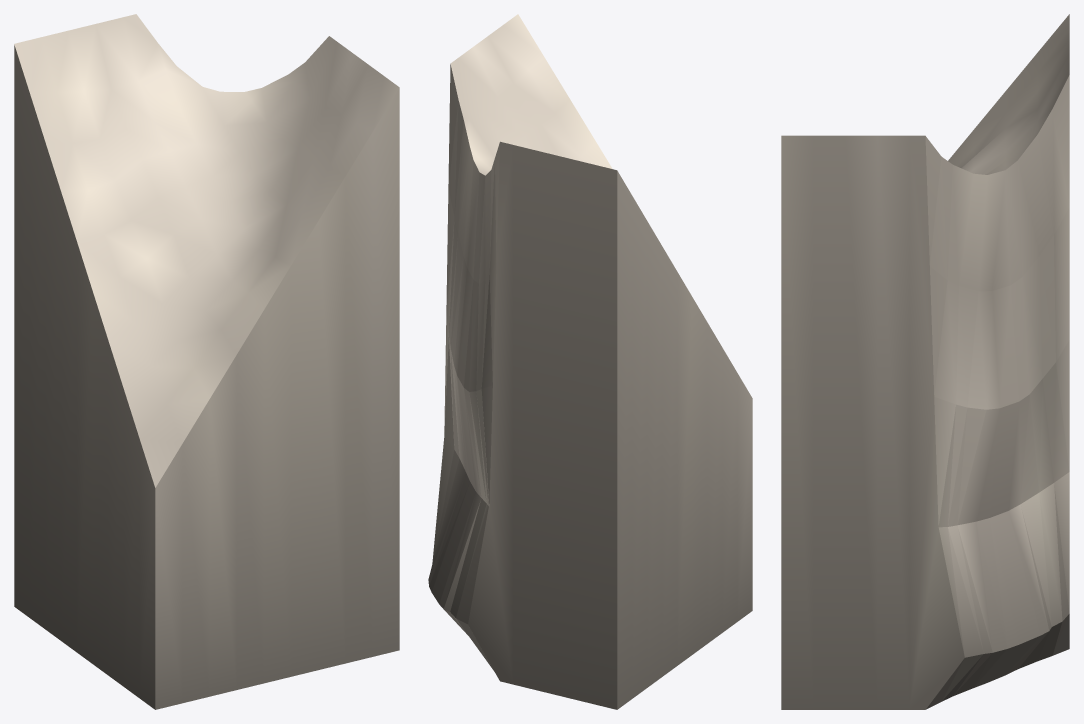
The model's file is SM_VKI_Rock_Cave_CFOF_A.fbx.
The picture shows the model from 3 angles, left to right: view 1: azimuth 30°, elevation 25°; view 2: azimuth 150°, elevation 25°; view 3: azimuth 270°, elevation 25°; orthographic projection. The views are drawn at different scales.
Parts seen in each view (by area): view 1: SM_VKI_Rock_Cave_CFOF_A.001; view 2: SM_VKI_Rock_Cave_CFOF_A.001; view 3: SM_VKI_Rock_Cave_CFOF_A.001.
Part boxes in pixels (<box>): SM_VKI_Rock_Cave_CFOF_A.001: <box>14,14,399,709</box>; SM_VKI_Rock_Cave_CFOF_A.001: <box>428,14,752,709</box>; SM_VKI_Rock_Cave_CFOF_A.001: <box>781,14,1069,709</box>.
Bounding box in the file's own units: 1.5 × 3.3 × 1.5.
